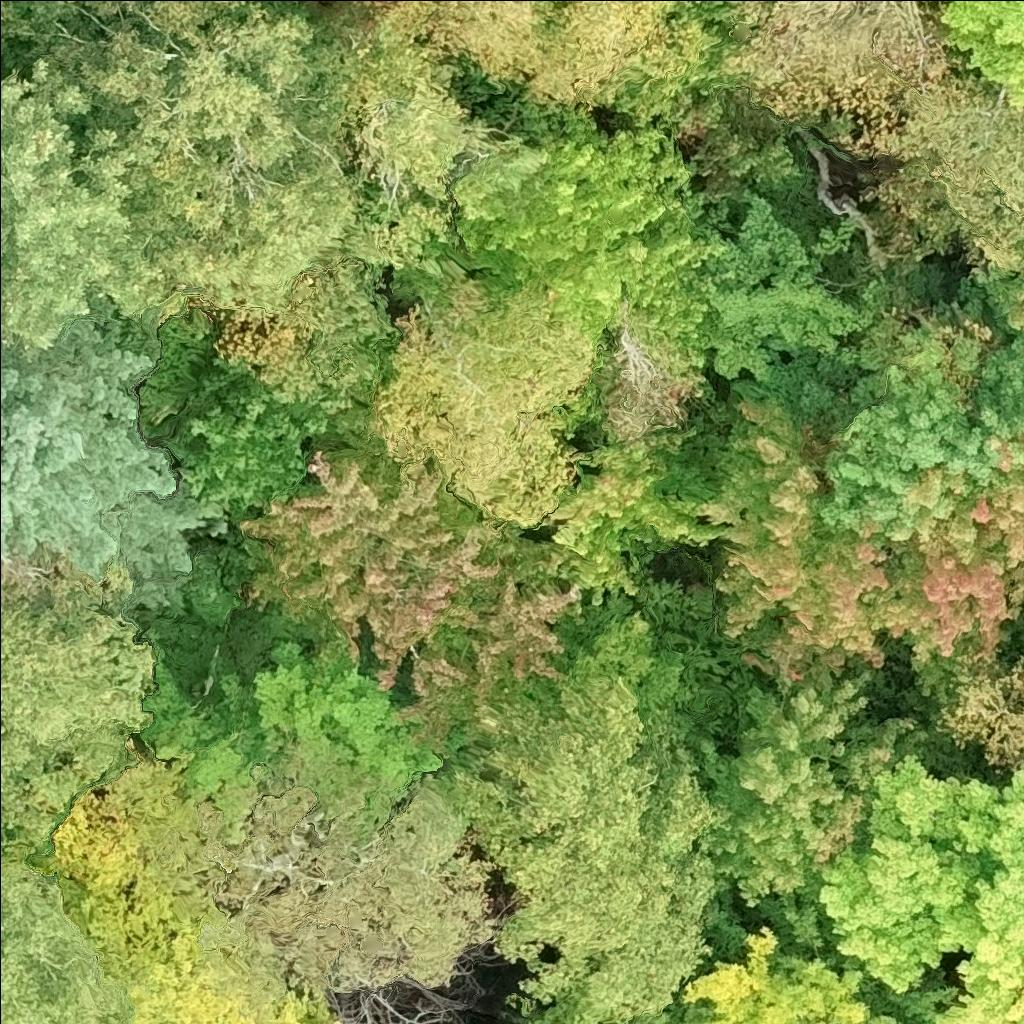crown: (0, 0, 395, 406), (242, 404, 591, 792), (425, 618, 714, 1023), (393, 109, 733, 396), (707, 401, 1023, 709), (34, 753, 344, 1023), (730, 259, 1023, 543), (198, 755, 501, 1001), (0, 298, 224, 609), (126, 638, 447, 849), (704, 666, 928, 941), (802, 753, 1023, 1023), (367, 286, 596, 526), (0, 59, 172, 349), (0, 562, 162, 858), (335, 28, 520, 270), (830, 66, 1023, 272), (532, 423, 726, 606), (688, 194, 875, 383), (721, 0, 954, 126), (520, 0, 734, 123), (659, 927, 905, 1023), (0, 843, 128, 1023), (365, 0, 551, 86), (592, 304, 701, 442), (927, 0, 1023, 112), (936, 654, 1023, 773), (530, 992, 714, 1023), (322, 986, 436, 1023), (1004, 297, 1023, 329), (217, 0, 256, 2), (313, 0, 335, 2)
